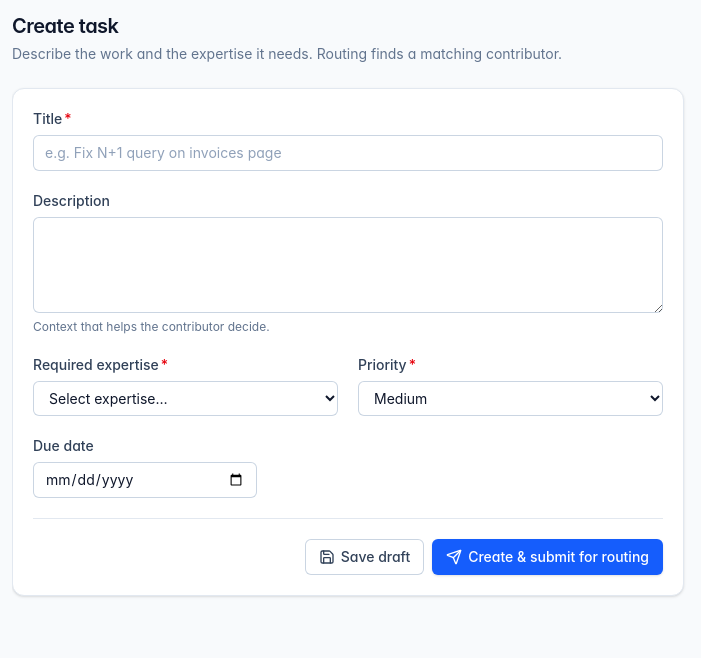
Test: NewTaskPage › shows validation errors and does not submit
This screenshot has width=701, height=658.
Click the button "Create & submit for routing": (548, 557) [432, 539, 663, 575]
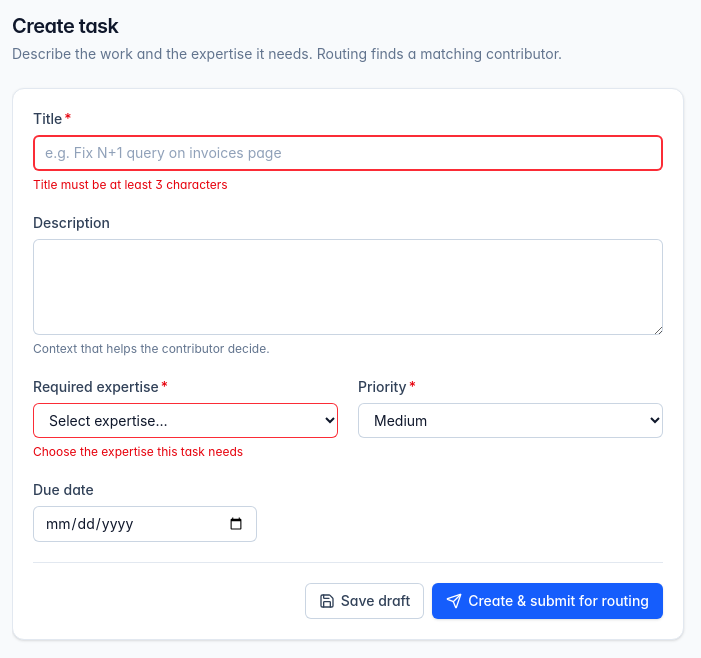
Now the text "Title must be at least 3 characters" is shown, box [33, 177, 228, 192]
Now the text "Choose the expertise this task needs" is shown, box [33, 444, 243, 459]
